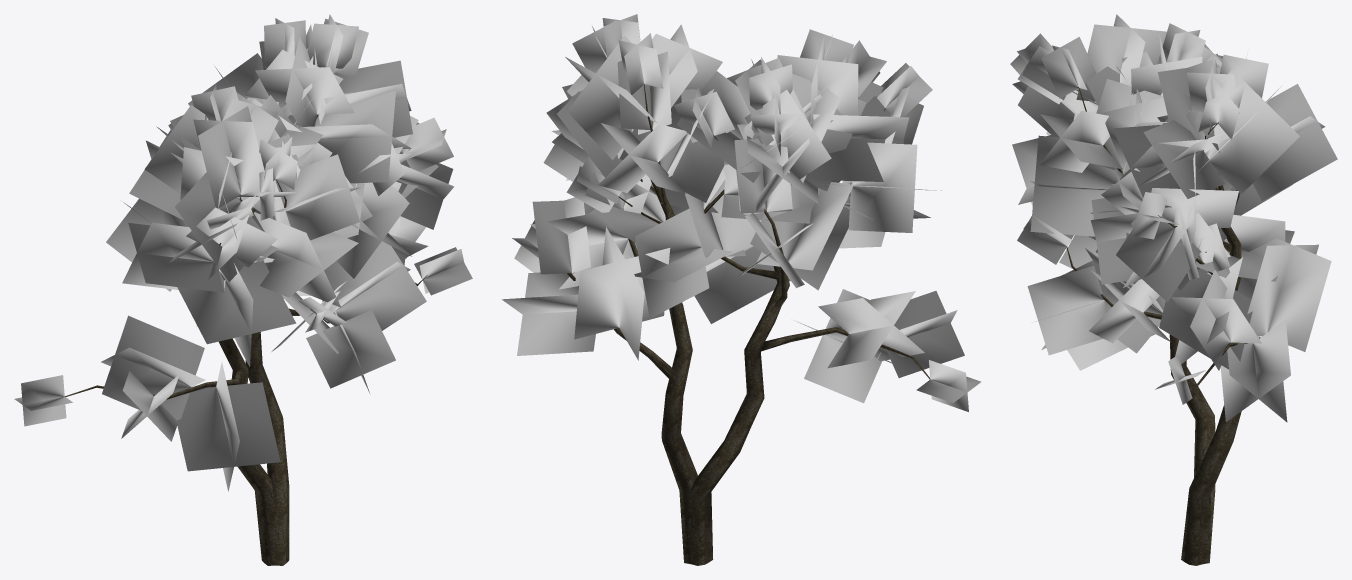
The model's file is TreeWaxCherry-red2-mobile.fbx.
3 views of the same model, side by side, from view 1: azimuth 30°, elevation 25°; view 2: azimuth 150°, elevation 25°; view 3: azimuth 270°, elevation 25° (orthographic). The views are drawn at different scales.
Visible parts, largest first — view 1: TreeWaxCherry-red2-mobile_LOD0; view 2: TreeWaxCherry-red2-mobile_LOD0; view 3: TreeWaxCherry-red2-mobile_LOD0.
Part boxes in pixels (x1=…): TreeWaxCherry-red2-mobile_LOD0: x1=14, y1=14, x2=472, y2=565; TreeWaxCherry-red2-mobile_LOD0: x1=502, y1=14, x2=981, y2=565; TreeWaxCherry-red2-mobile_LOD0: x1=1010, y1=14, x2=1337, y2=565.
Size of what is drawn, in the model's own units: 481 by 535 by 303.
